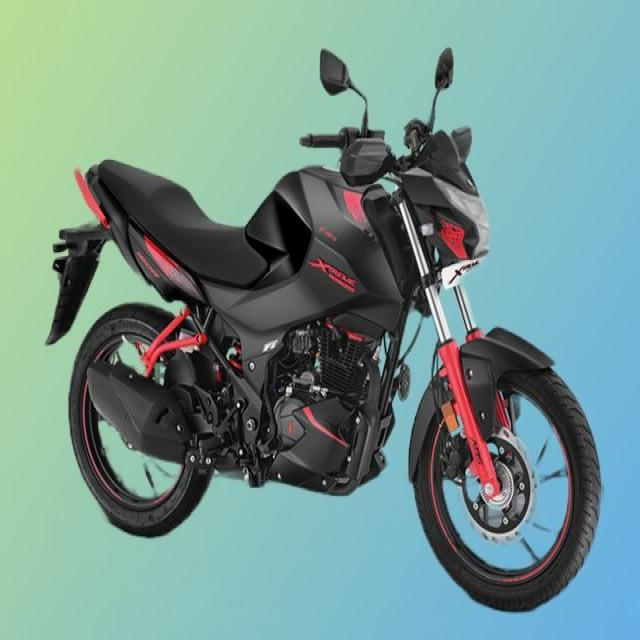MOTORCYCLE: (39, 63, 601, 618)
